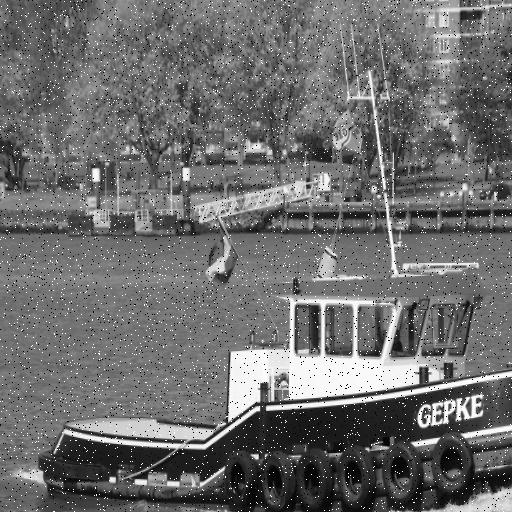tugboat: (34, 22, 512, 512)
